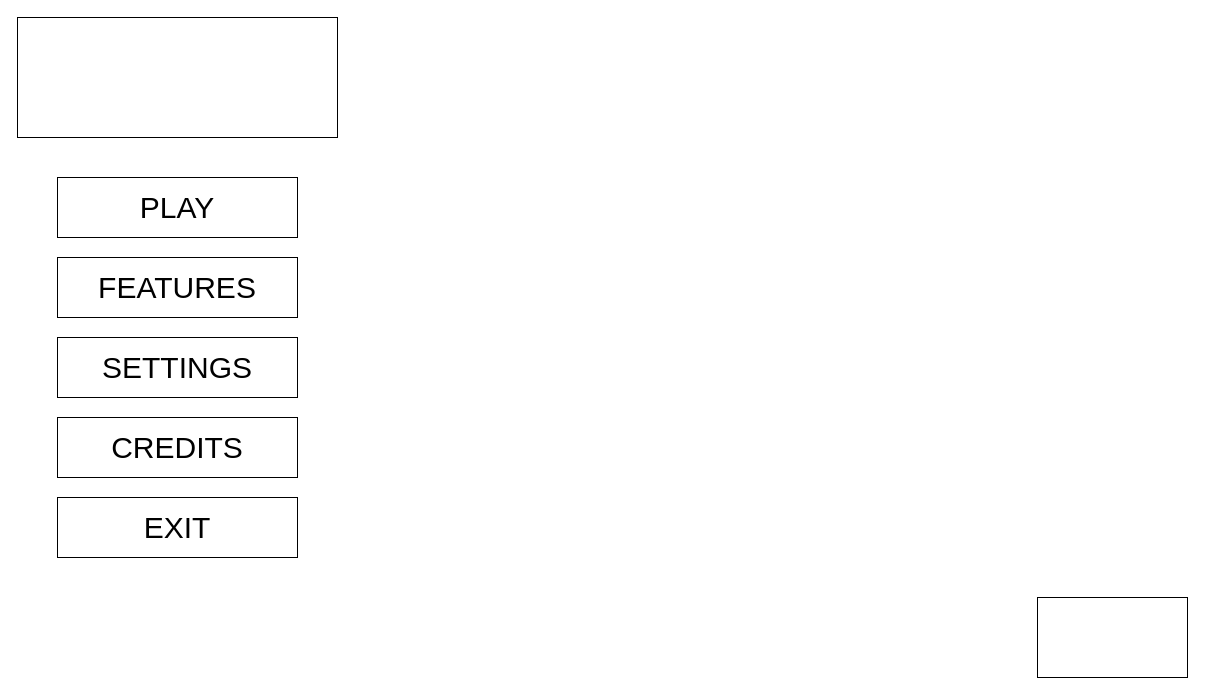
The diagram is 1205 pixels wide and 695 high, and some of its shapes have lost their labels. The shapes that lost their labels are listed below. From the top down, each one's centre as x and y in pixels, then its label:
(x=177, y=77): TITLE
(x=1112, y=637): VERSION
